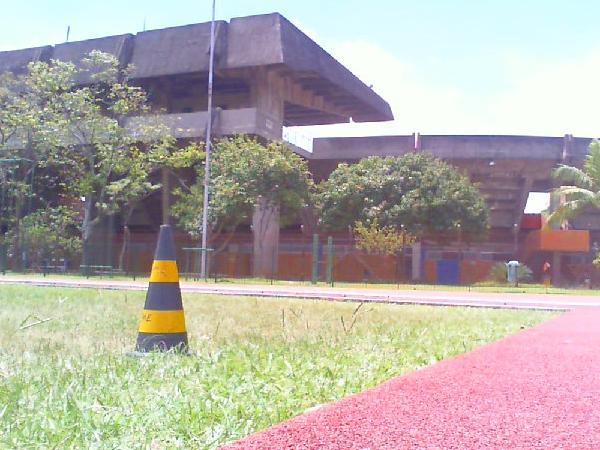0 cone: (125, 225, 196, 358)
